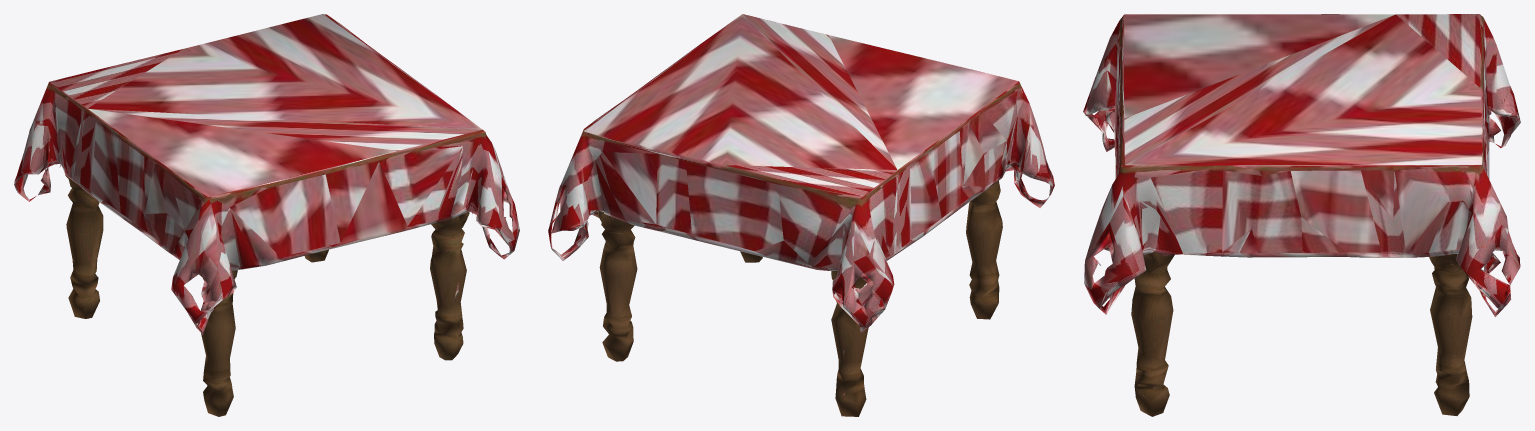
The model's file is table.glb.
3 renders of one model, left to right at view 1: azimuth 30°, elevation 25°; view 2: azimuth 150°, elevation 25°; view 3: azimuth 270°, elevation 25°, orthographic. The views are drawn at different scales.
Visible parts, largest first — view 1: Mesh_0; view 2: Mesh_0; view 3: Mesh_0.
Part boxes in pixels (x1=…): Mesh_0: x1=14, y1=14, x2=519, y2=416; Mesh_0: x1=548, y1=14, x2=1054, y2=416; Mesh_0: x1=1083, y1=14, x2=1520, y2=416.
Size of the model in its own units: 1.15 by 0.7485 by 1.15.
1 material, 1 textured.
